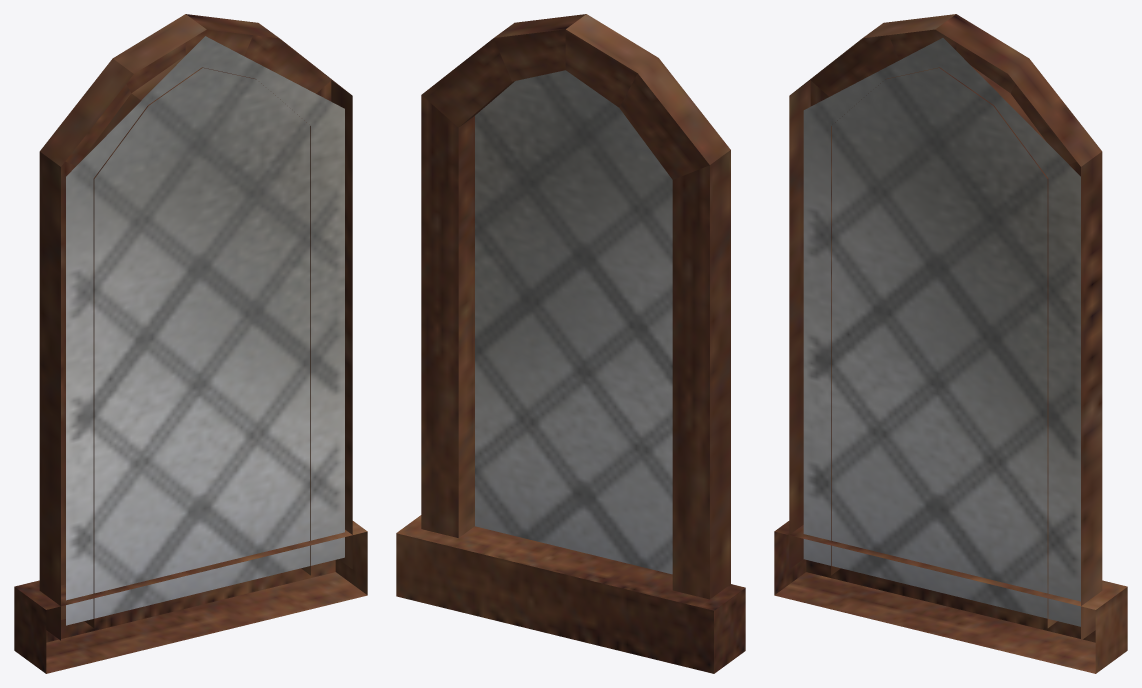
Rendered from Window1.fbx.
The picture shows the model from 3 angles, left to right: view 1: azimuth 30°, elevation 25°; view 2: azimuth 150°, elevation 25°; view 3: azimuth 330°, elevation 25°; orthographic projection.
Visible parts, largest first — view 1: Cube.011; view 2: Cube.011; view 3: Cube.011.
Boxes of the visible parts, left/top/right/bottom form: Cube.011: left=14, top=14, right=367, bottom=673; Cube.011: left=396, top=14, right=745, bottom=673; Cube.011: left=774, top=14, right=1127, bottom=673.
Size of the model in its own units: 119 by 214 by 20.49.
Materials: 1 (1 with a texture image).
